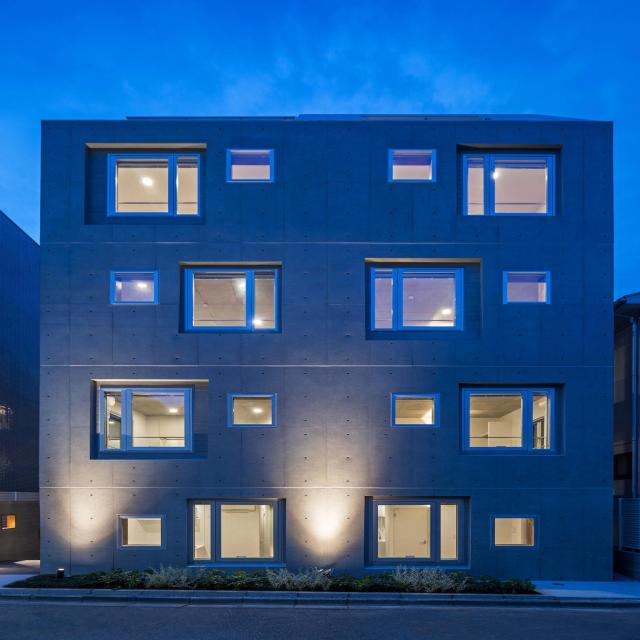window: (184, 264, 279, 332), (100, 384, 192, 454), (374, 498, 466, 568), (107, 151, 201, 217), (371, 265, 465, 331), (463, 152, 558, 217), (188, 502, 284, 563), (109, 269, 157, 307), (227, 148, 275, 185), (387, 146, 435, 183), (390, 394, 438, 431), (502, 271, 550, 304), (494, 516, 542, 549), (114, 515, 162, 548), (231, 394, 279, 426)
